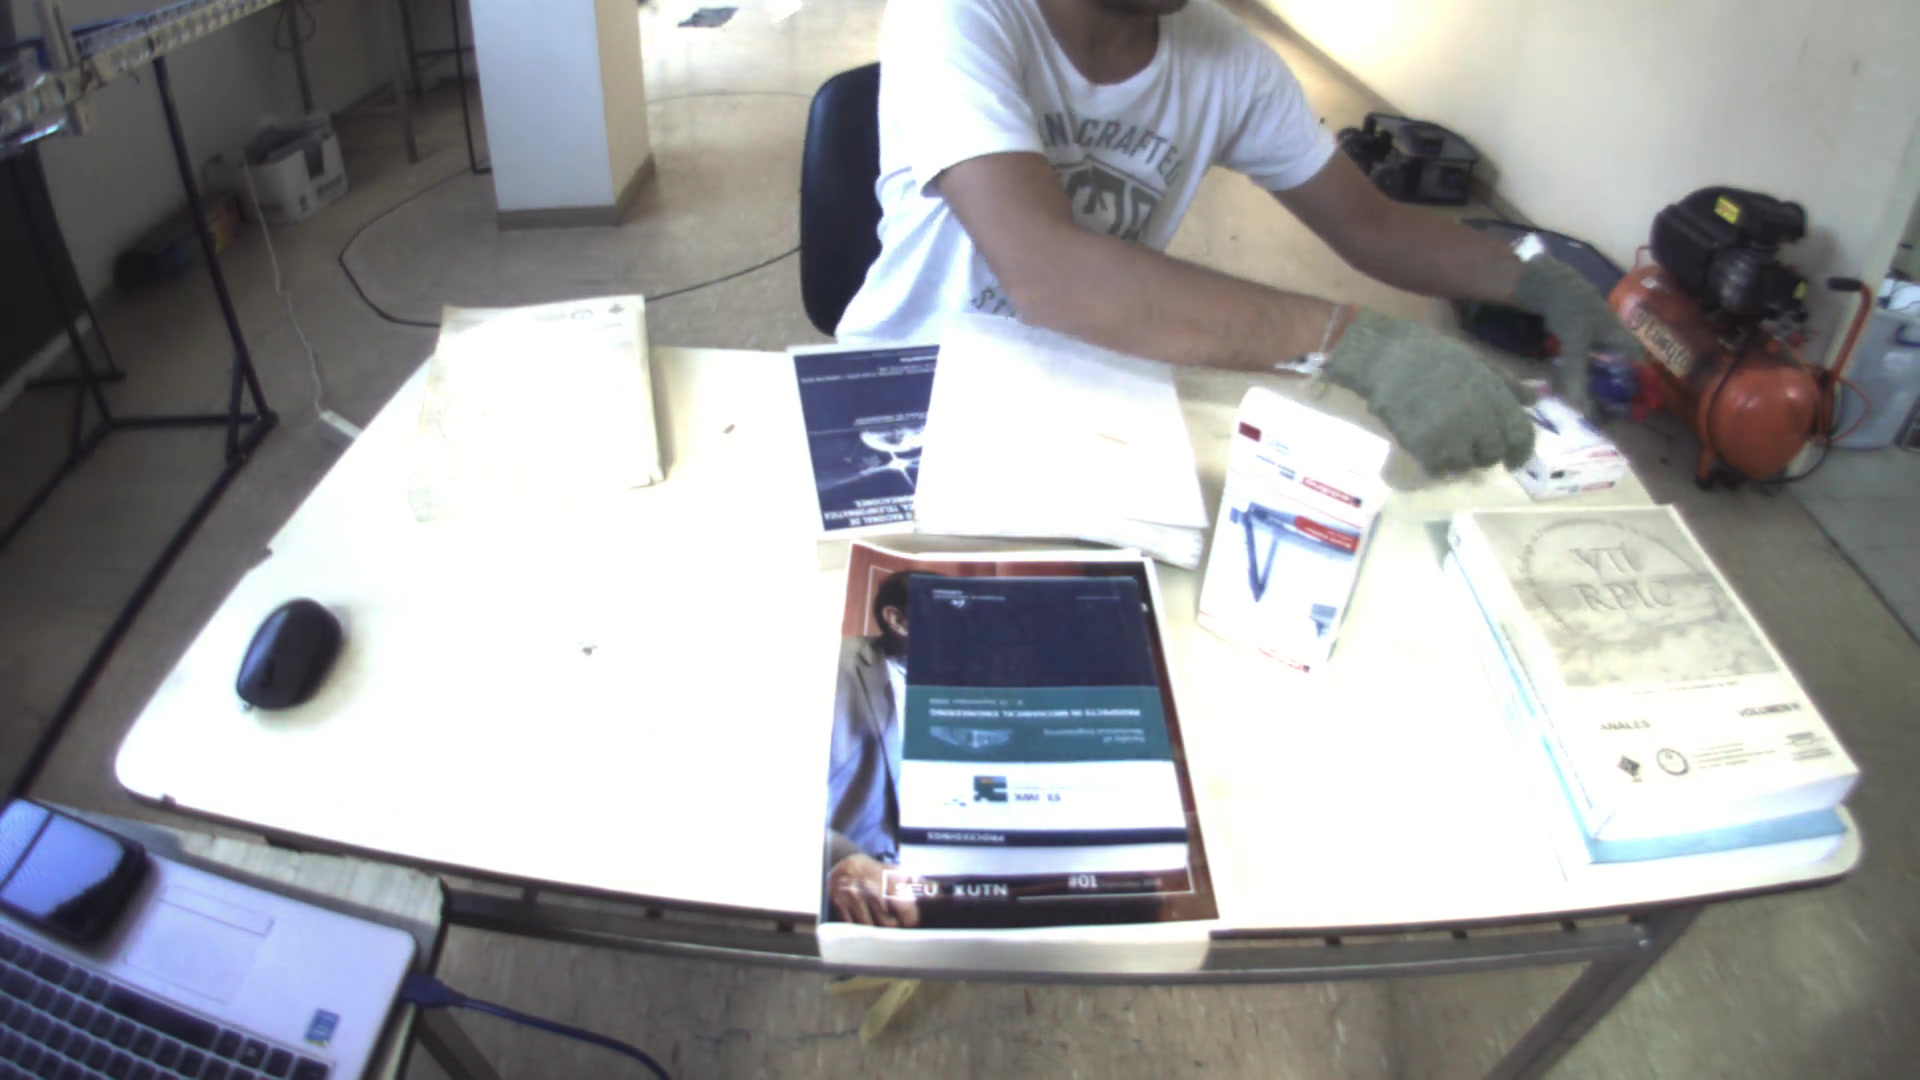hand: (1324, 305, 1549, 481), (1502, 255, 1648, 413)
